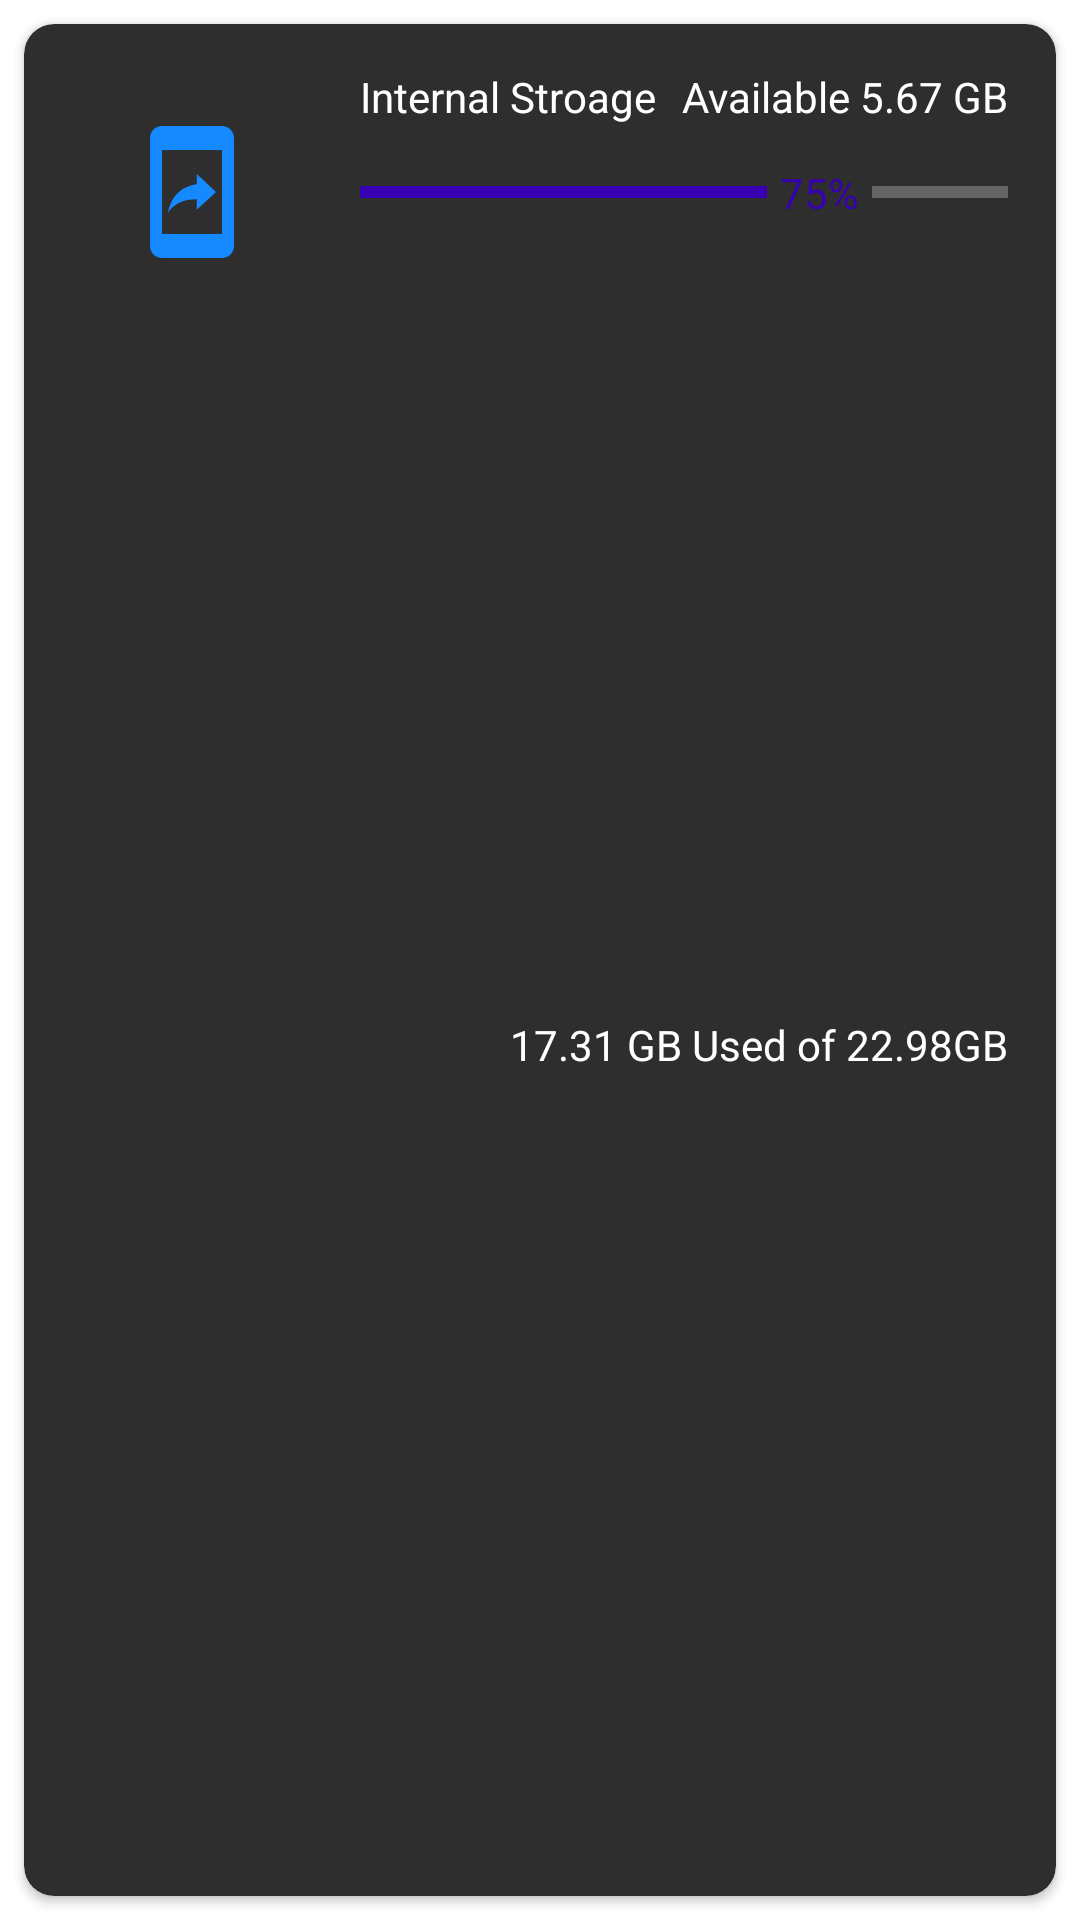

Named icons in this screenshot (1080 × 1920) and their centers, (x,y):
mobile: (192,192)
